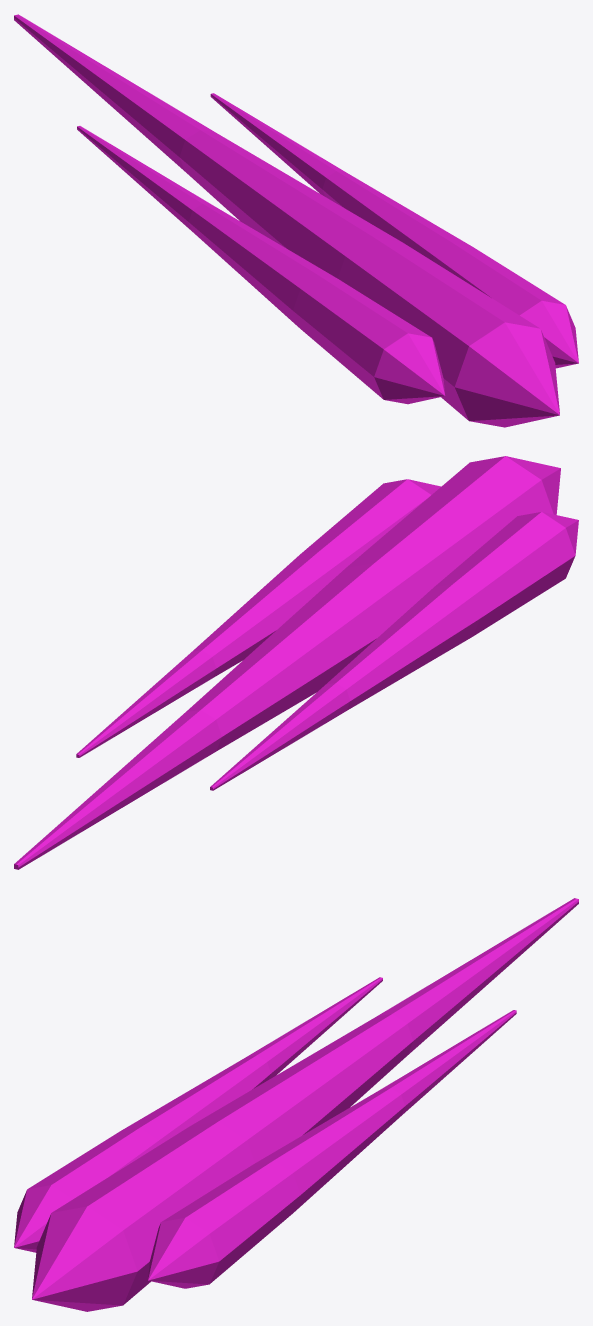
The model's file is triple_bullet.glb.
The picture shows the model from 3 angles, top to bottom: view 1: azimuth 30°, elevation 25°; view 2: azimuth 150°, elevation 25°; view 3: azimuth 330°, elevation 25°; orthographic projection.
Visible parts, largest first — view 1: MainObject; view 2: MainObject; view 3: MainObject.
Boxes of the visible parts, x1,y1,x2,y2 form: MainObject: (14,14,578,427); MainObject: (14,456,578,869); MainObject: (14,898,578,1311).
Size of the model in its own units: 1.22 by 0.6109 by 5.72.
